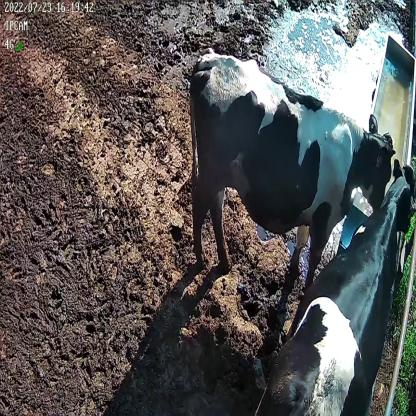cow: (189, 49, 397, 298), (259, 155, 416, 416)
